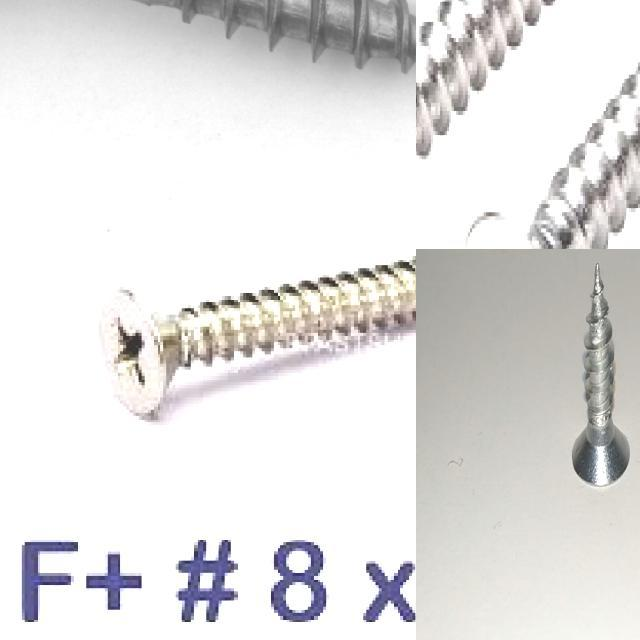Screw: (99, 257, 416, 419), (0, 0, 416, 102), (453, 50, 640, 249), (416, 0, 564, 186), (572, 261, 630, 486)
